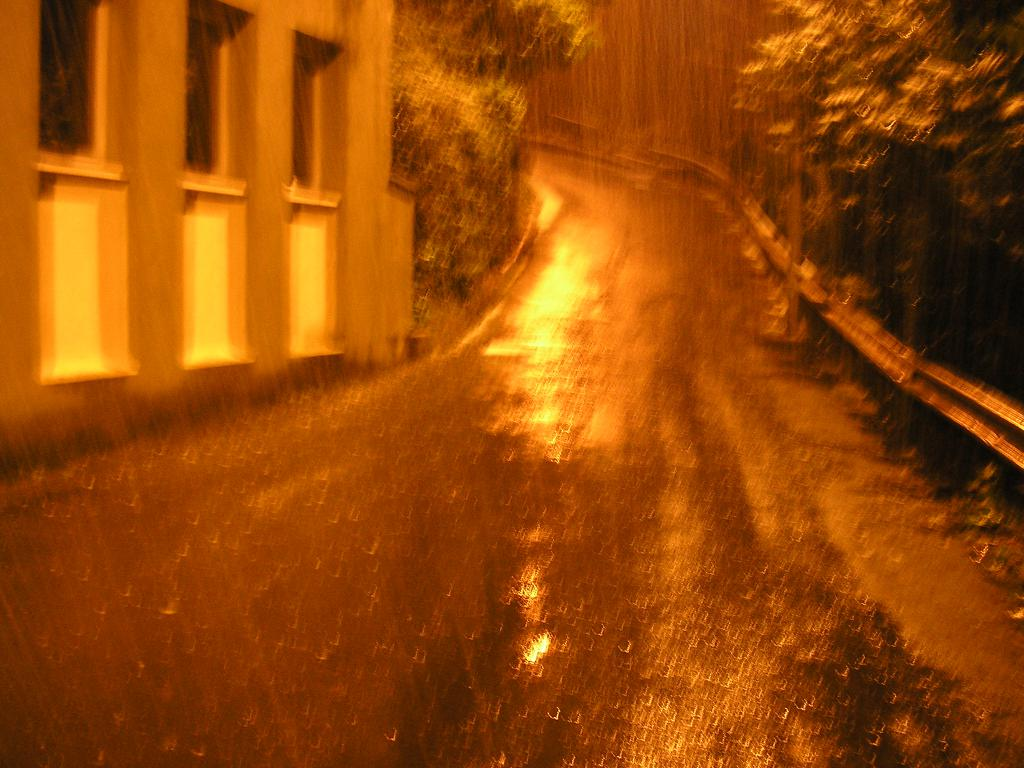Tree: (392, 0, 602, 314)
